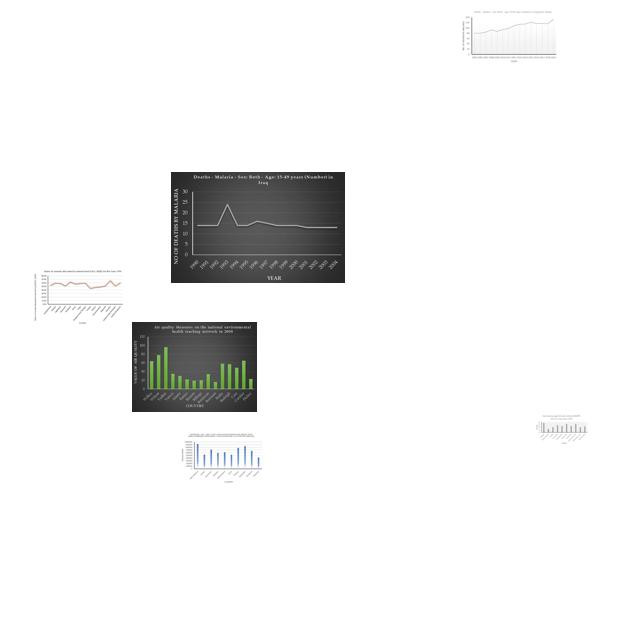Graph: (171, 172, 345, 283), (132, 322, 257, 412), (31, 269, 126, 326), (461, 9, 558, 64), (179, 433, 263, 483), (535, 414, 588, 445)
